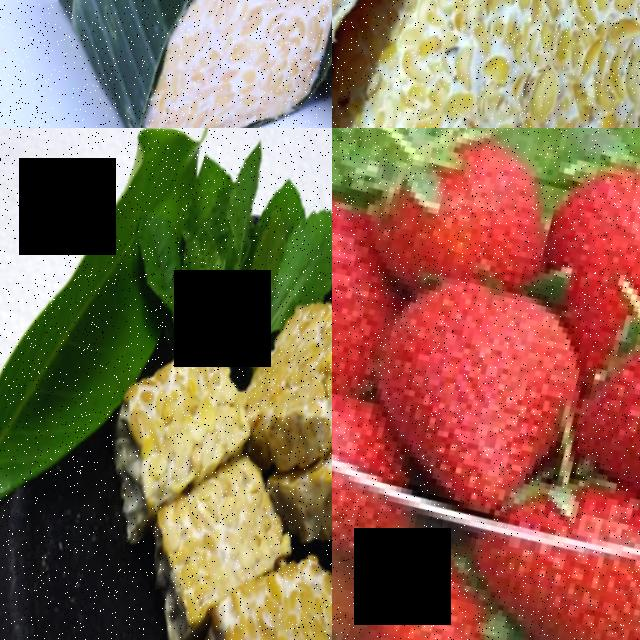strawberry: (346, 260, 599, 525), (365, 128, 559, 297), (452, 479, 640, 640), (552, 282, 640, 563), (525, 142, 640, 342), (332, 178, 385, 405)
tempeh: (120, 0, 332, 128), (413, 0, 640, 102), (228, 287, 332, 491), (407, 43, 640, 128), (332, 0, 474, 128), (295, 333, 332, 567)
tofu: (83, 329, 251, 541), (118, 440, 282, 640), (171, 548, 332, 640)
